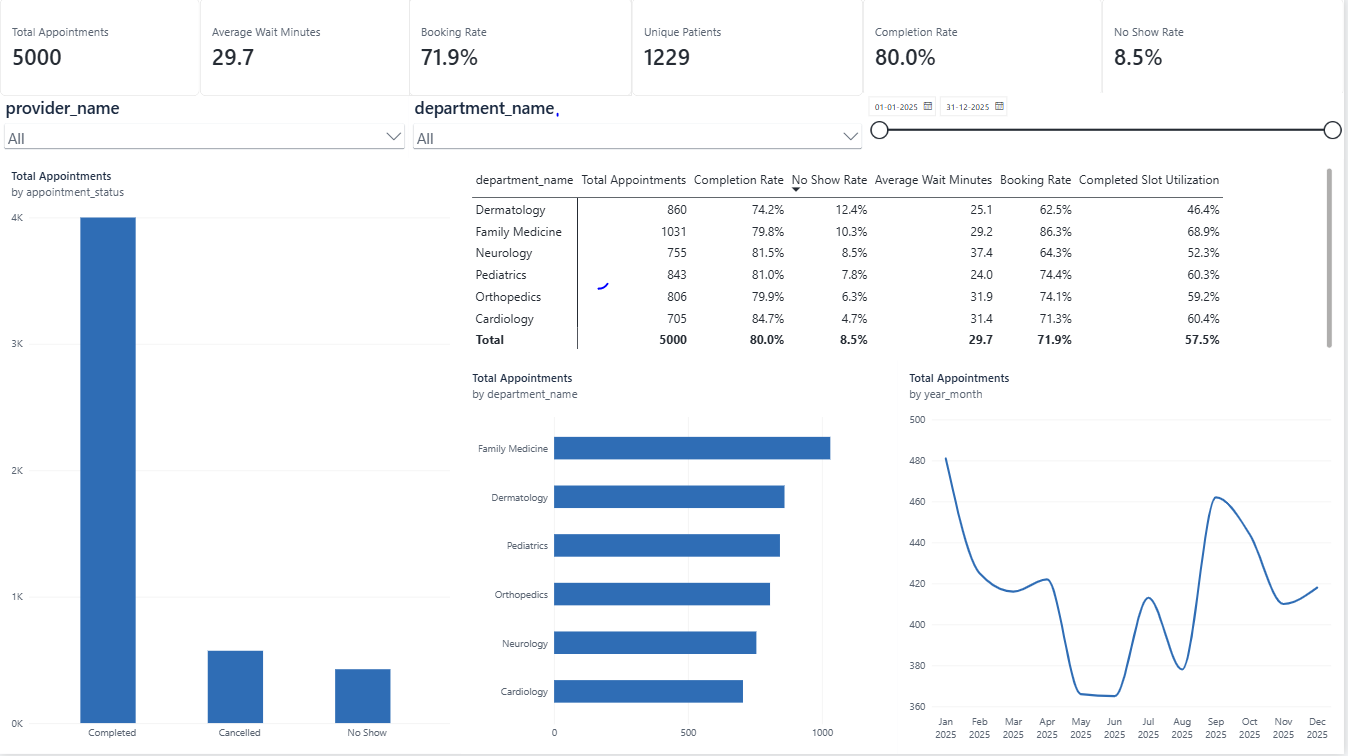

The dashboard page shown, as its layout file describes it:
{"tool":"powerbi","page":{"name":"Operational Overview","canvas":[1920,1080],"ordinal":0},"visuals":[{"type":"cardVisual","fields":{"Data":["Appointments.Total Appointments"]},"box":[0,0,285.7,140],"z":0},{"type":"cardVisual","fields":{"Data":["Appointments.Unique Patients"]},"box":[902.9,0,330,140],"z":1000},{"type":"cardVisual","fields":{"Data":["Appointments.Completion Rate"]},"box":[1232.9,0,341.4,140],"z":2000},{"type":"cardVisual","fields":{"Data":["Appointments.No Show Rate"]},"box":[1574.3,0,345.7,140],"z":3000},{"type":"cardVisual","fields":{"Data":["Appointments.Average Wait Minutes"]},"box":[285.7,0,310,140],"z":4000},{"type":"cardVisual","fields":{"Data":["Appointments.Booking Rate"]},"box":[584.3,0,318.6,140],"z":5000},{"type":"lineChart","fields":{"Category":["Date.year_month"],"Y":["Appointments.Total Appointments"]},"box":[1282.9,517.1,637.1,562.9],"z":6000},{"type":"columnChart","fields":{"Category":["Appointments.appointment_status"],"Y":["Appointments.Total Appointments"]},"box":[0,228.6,658.6,851.4],"z":7000},{"type":"clusteredBarChart","fields":{"Category":["Departments.department_name"],"Y":["Appointments.Total Appointments"]},"box":[658.6,517.1,624.3,562.9],"z":8000},{"type":"pivotTable","fields":{"Rows":["Departments.department_name"],"Values":["Appointments.Total Appointments","Appointments.Completion Rate","Appointments.No Show Rate","Appointments.Average Wait Minutes","Appointments.Booking Rate","Appointments.Completed Slot Utilization"]},"box":[658.6,228.6,1261.4,288.6],"z":9000},{"type":"slicer","fields":{"Values":["Providers.provider_name"]},"box":[0,140,584.3,88.6],"z":10000},{"type":"slicer","fields":{"Values":["Departments.department_name"]},"box":[584.3,140,652.9,88.6],"z":11000},{"type":"slicer","fields":{"Values":["Date.date"]},"box":[1232.9,135.7,687.1,92.9],"z":12000}]}

Visuals, with their boxes in screenshot pixels (x1, y1, x2, y2), scaled from the page's 1920x1080 canvas onto the 1348x756 screenshot:
cardVisual - Appointments.Total Appointments: x1=0, y1=0, x2=201, y2=98
cardVisual - Appointments.Unique Patients: x1=634, y1=0, x2=866, y2=98
cardVisual - Appointments.Completion Rate: x1=866, y1=0, x2=1105, y2=98
cardVisual - Appointments.No Show Rate: x1=1105, y1=0, x2=1347, y2=98
cardVisual - Appointments.Average Wait Minutes: x1=201, y1=0, x2=418, y2=98
cardVisual - Appointments.Booking Rate: x1=410, y1=0, x2=634, y2=98
lineChart - Date.year_month x Appointments.Total Appointments: x1=901, y1=362, x2=1347, y2=755
columnChart - Appointments.appointment_status x Appointments.Total Appointments: x1=0, y1=160, x2=462, y2=755
clusteredBarChart - Departments.department_name x Appointments.Total Appointments: x1=462, y1=362, x2=901, y2=755
pivotTable - Departments.department_name x Appointments.Total Appointments: x1=462, y1=160, x2=1347, y2=362
slicer - Providers.provider_name: x1=0, y1=98, x2=410, y2=160
slicer - Departments.department_name: x1=410, y1=98, x2=869, y2=160
slicer - Date.date: x1=866, y1=95, x2=1347, y2=160
